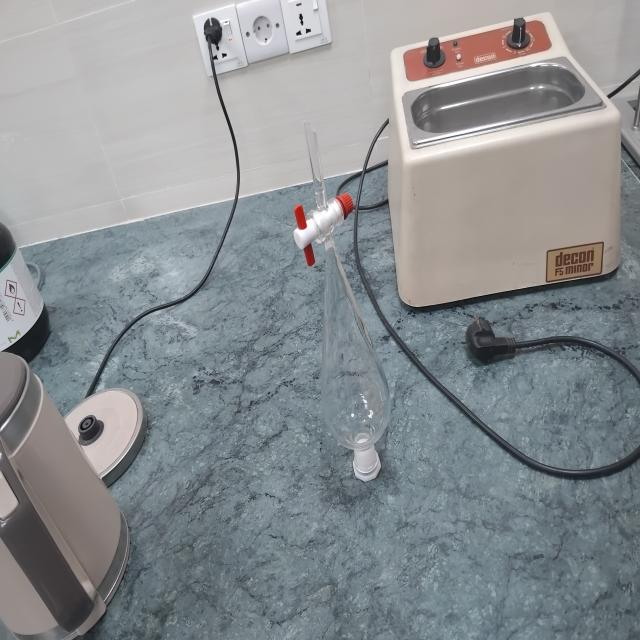Separating_Funnel: (267, 76, 410, 518)
